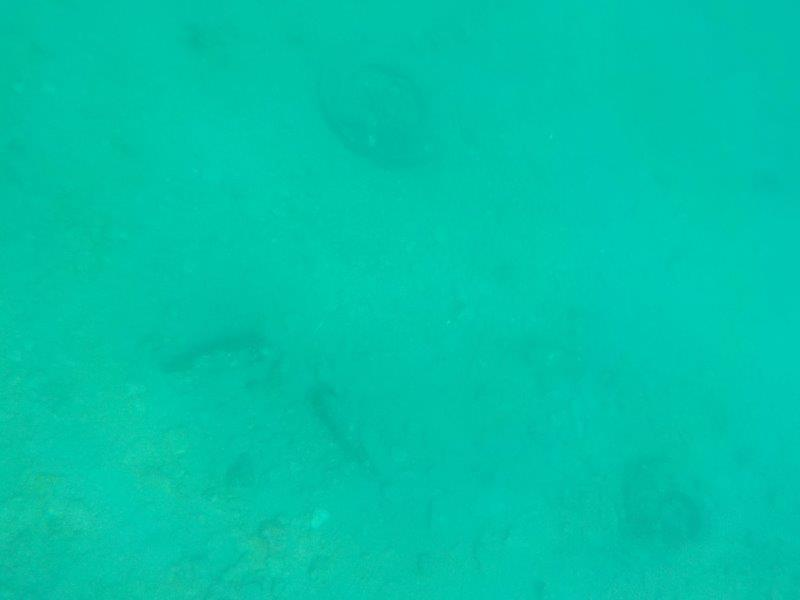bottle: (153, 336, 274, 405), (307, 382, 384, 484)
tire: (312, 38, 455, 169), (618, 451, 742, 587)
